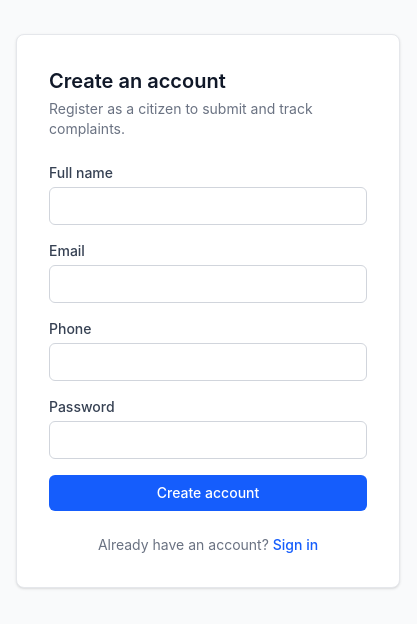
Scenario: RegisterPage › shows the first express-validator error message returned by the API
Type "Jane Citizen" into the field labelled "Full name".
click(208, 206); type("Jane Citizen")  # box x1=49 y1=187 x2=367 y2=225
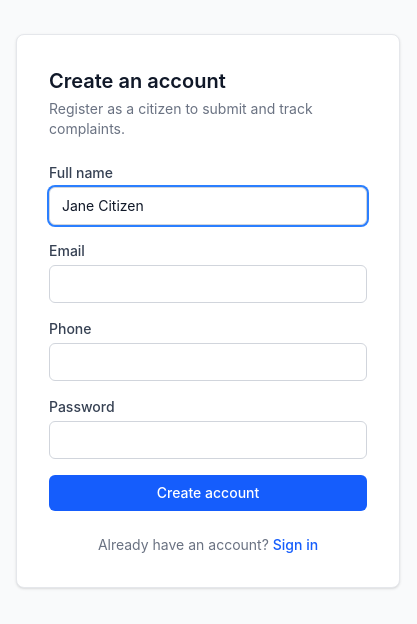
Type "jane@example.com" into the field labelled "Email".
click(208, 284); type("jane@example.com")  # box x1=49 y1=265 x2=367 y2=303
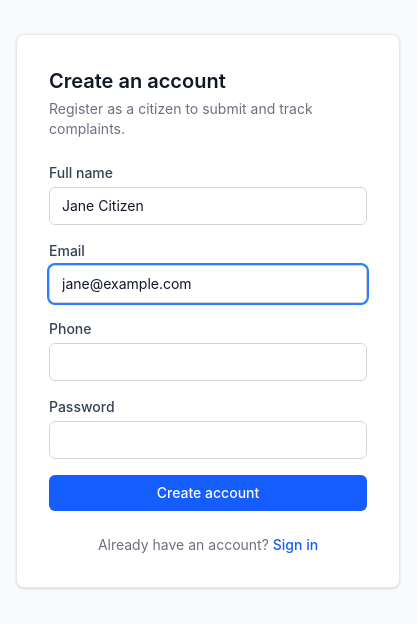
Type "1234567890" into the field labelled "Phone".
click(208, 362); type("1234567890")  # box x1=49 y1=343 x2=367 y2=381
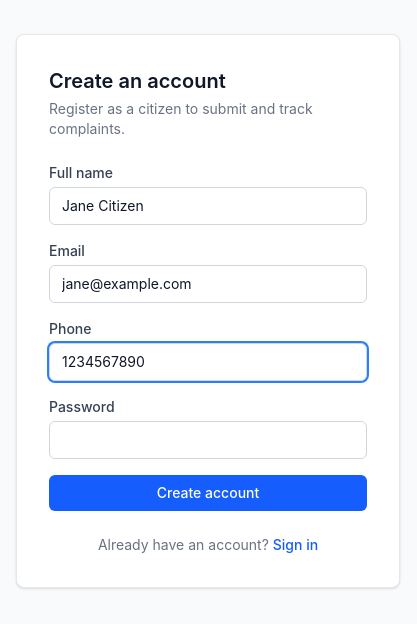
Type "short12" into the password field labelled "Password".
click(208, 440); type("short12")  # box x1=49 y1=421 x2=367 y2=459
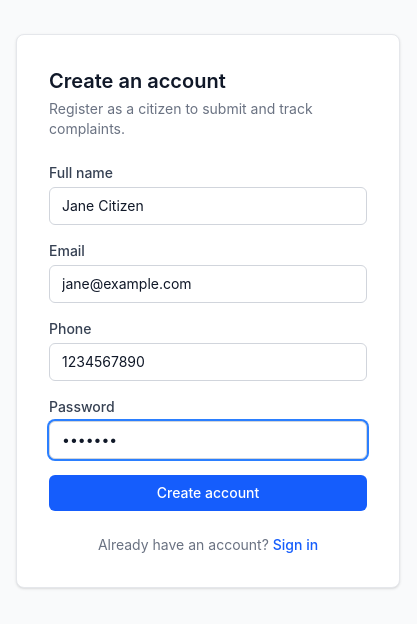
Click the button "Create account".
click(208, 493)  # box x1=49 y1=475 x2=367 y2=511
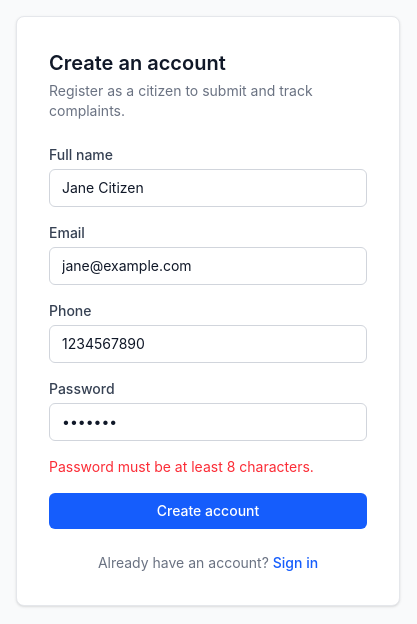
Now the text "Password must be at least 8 characters." is shown, box x1=49 y1=458 x2=314 y2=475
